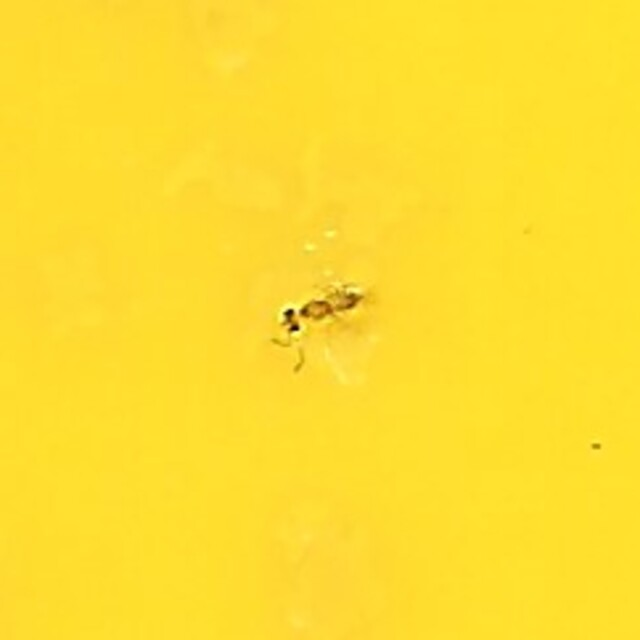Hymenoptera: (264, 269, 376, 371)
